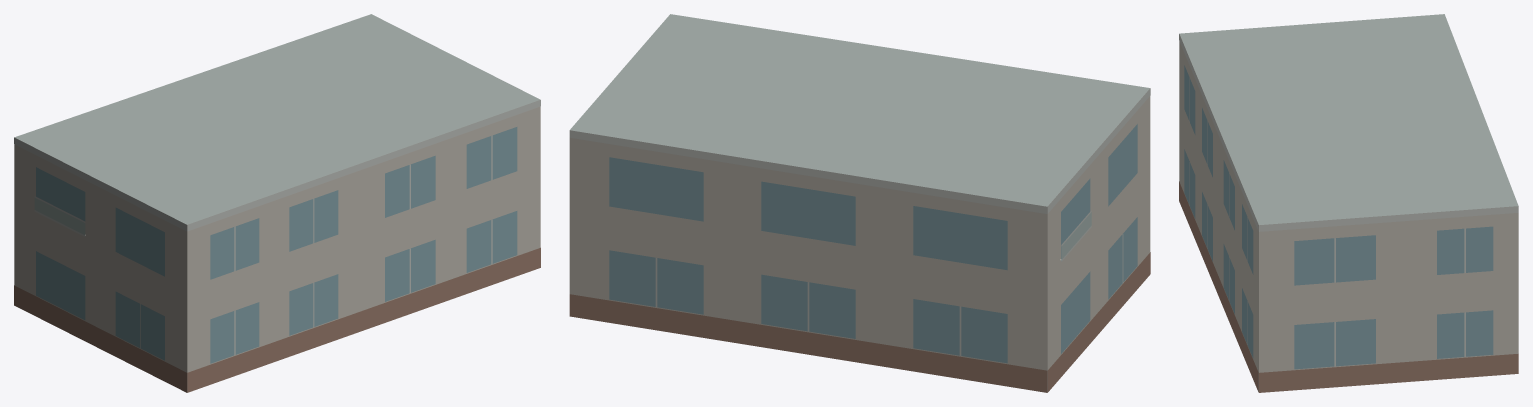
File: survey-upis-32944069.glb
3 renders of one model, left to right at view 1: azimuth 30°, elevation 25°; view 2: azimuth 150°, elevation 25°; view 3: azimuth 270°, elevation 25°, orthographic. The views are drawn at different scales.
Parts seen in each view (by area): view 1: survey-upis-32944069.tmp; view 2: survey-upis-32944069.tmp; view 3: survey-upis-32944069.tmp.
Boxes of the visible parts, bbox=[...] form: survey-upis-32944069.tmp: bbox=[14, 14, 540, 392]; survey-upis-32944069.tmp: bbox=[569, 14, 1150, 392]; survey-upis-32944069.tmp: bbox=[1179, 14, 1518, 392].
Bounding box in the file's own units: 16.48 × 6.1 × 11.2.
